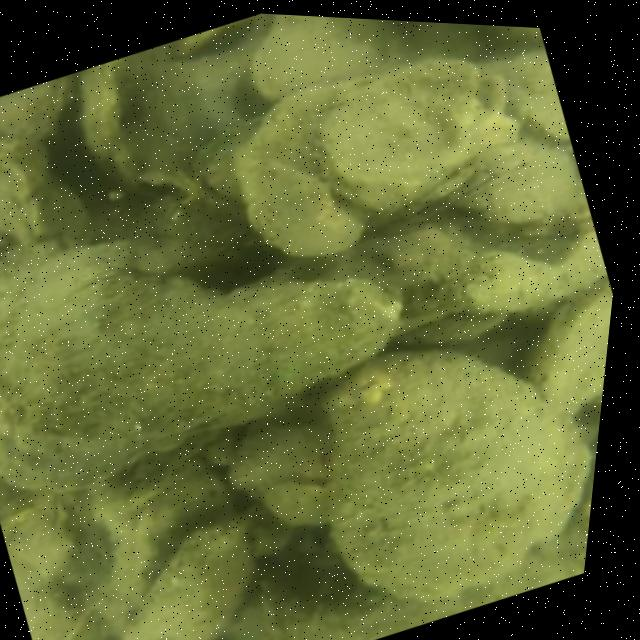Oyster-Closed: (313, 63, 510, 217)
Oyster-Indeterminate: (0, 243, 388, 492), (326, 347, 584, 602), (270, 540, 587, 640), (233, 87, 367, 259), (122, 519, 253, 640), (249, 14, 399, 97), (530, 284, 612, 411), (228, 396, 325, 492), (0, 77, 70, 138)
